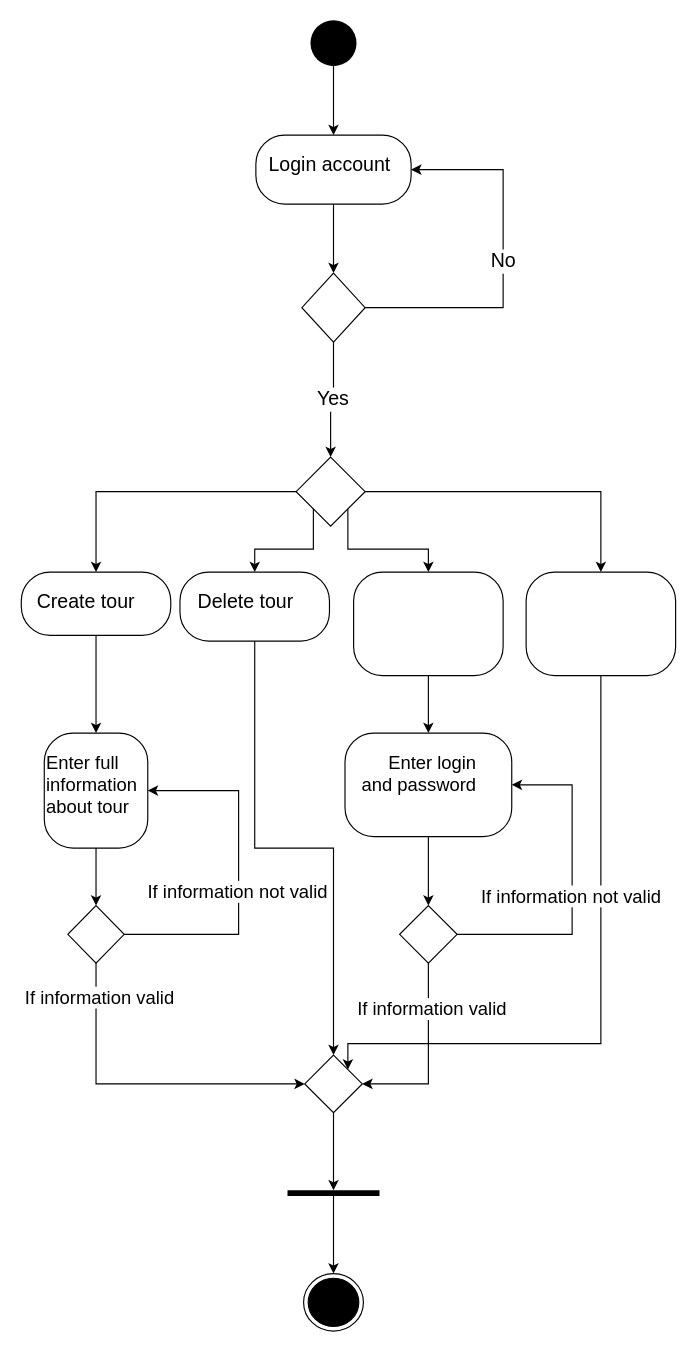
Image size: 696x1351. Some labels were removed from this diagram. Each missing label, with the centre of its shape:
Create manager account: pixel 427 623
Delete manager account: pixel 600 623
